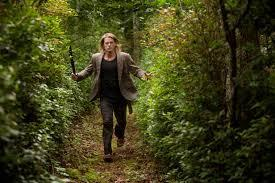Knife: (68, 45, 78, 75)
